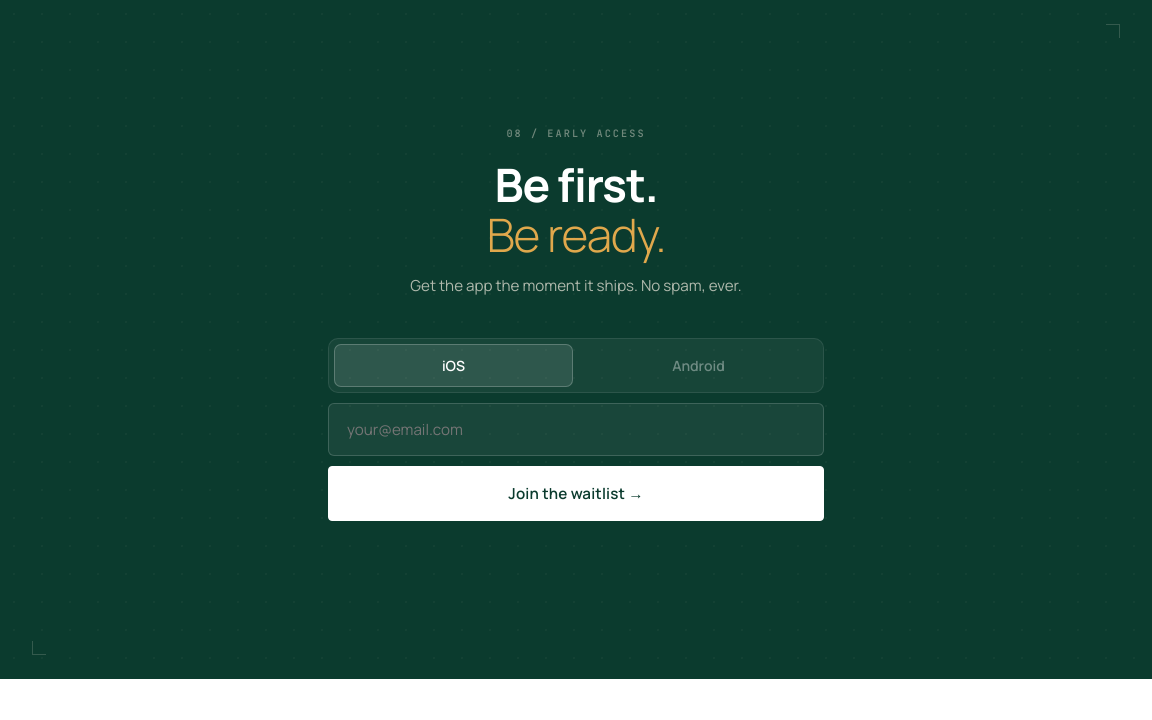
it: Waitlist › rejects empty email client-side
Click the radio button labelled "iOS" at [454, 365], box [334,344,573,387]
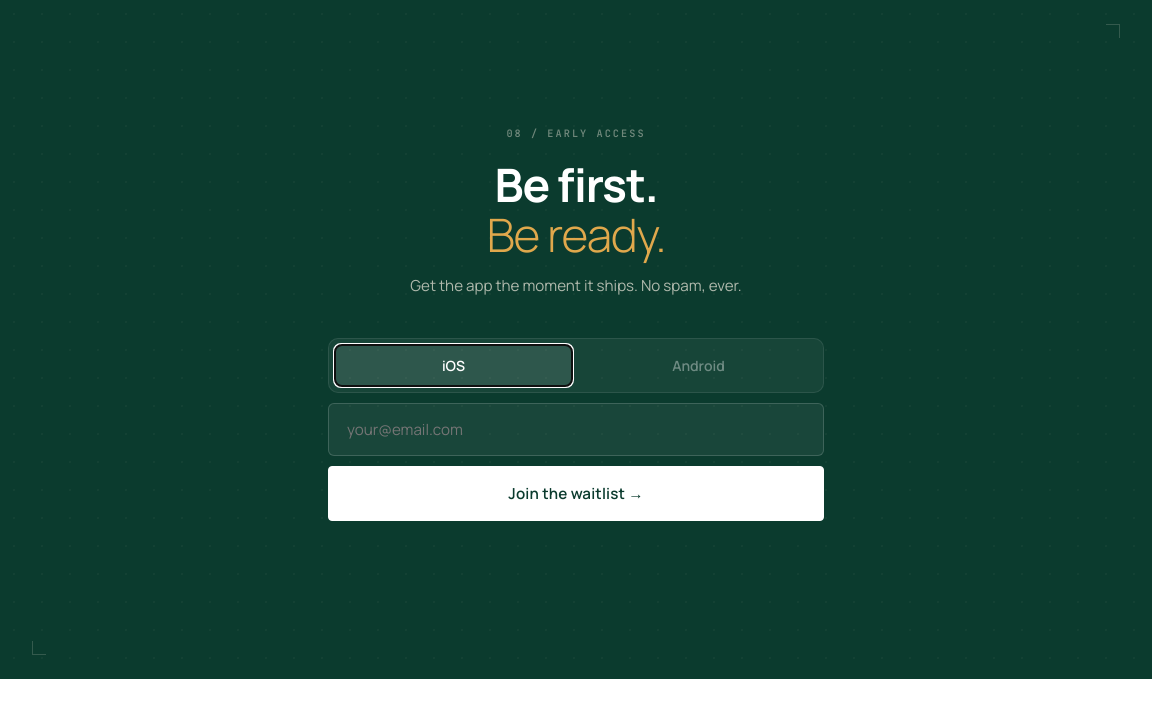
Click the button "Join the waitlist →" at [576, 493], box [328,466,824,521]
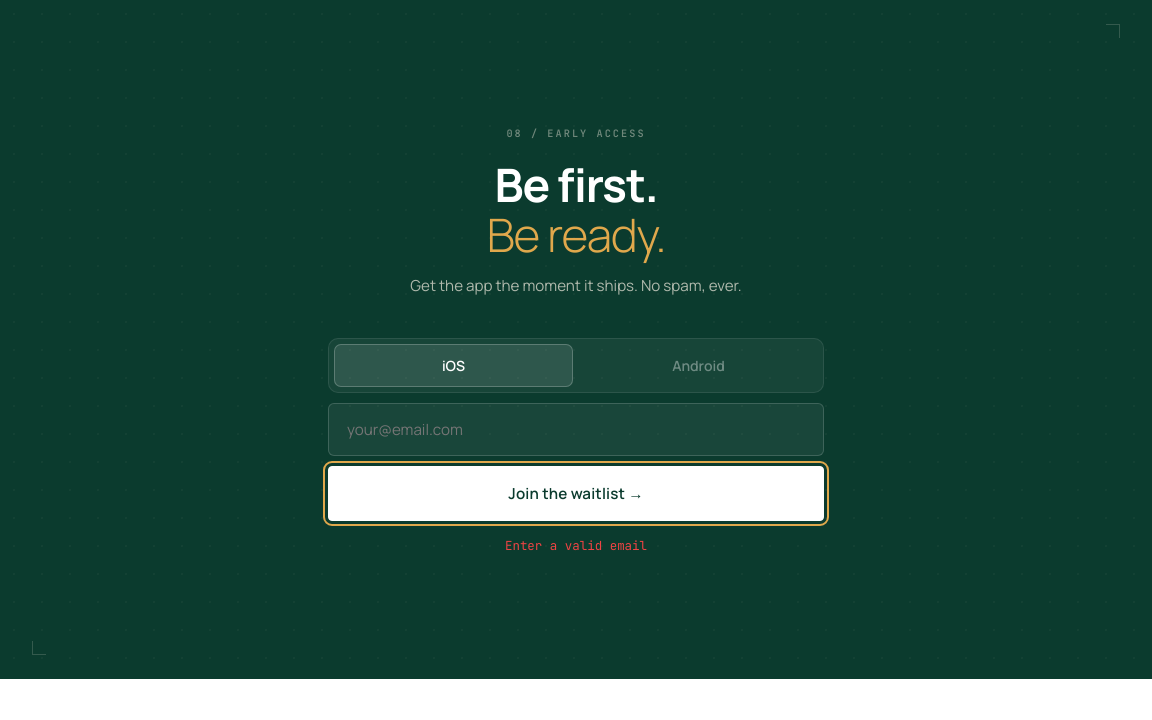
Expected: the text "Enter a valid email" is shown, [505,537,647,554]
